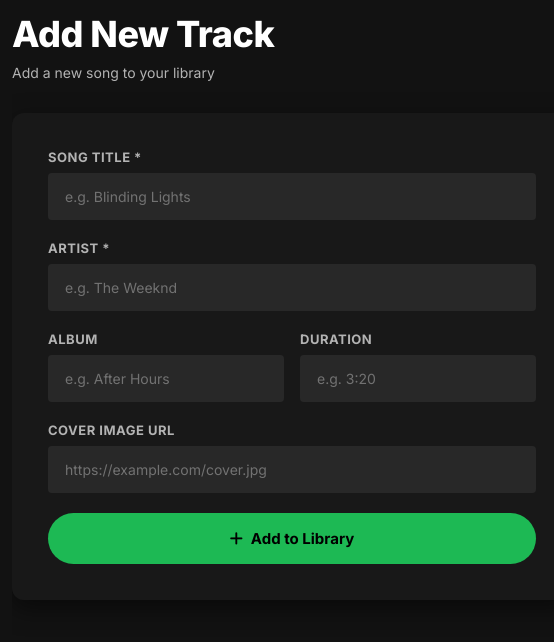
Test: AddTrack Page Component › shows generic error if API fails
Type "Test Title" into the field labelled "Song Title *".
click(292, 196); type("Test Title")  # box 48,173 -> 536,220
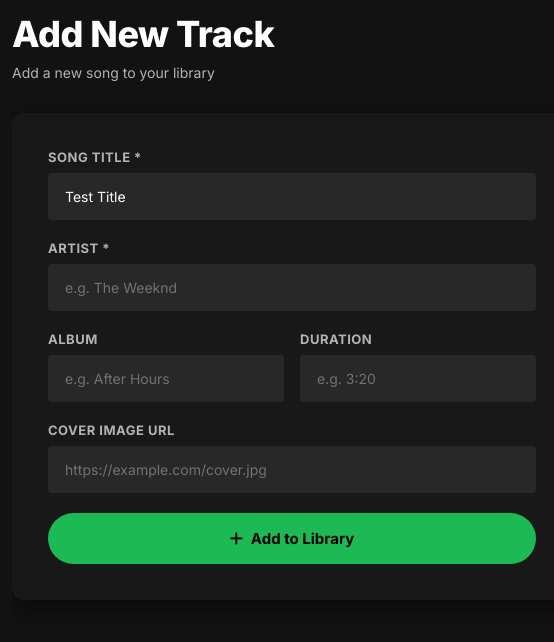
Type "Test Artist" into the field labelled "Artist *".
click(292, 288); type("Test Artist")  # box 48,264 -> 536,311
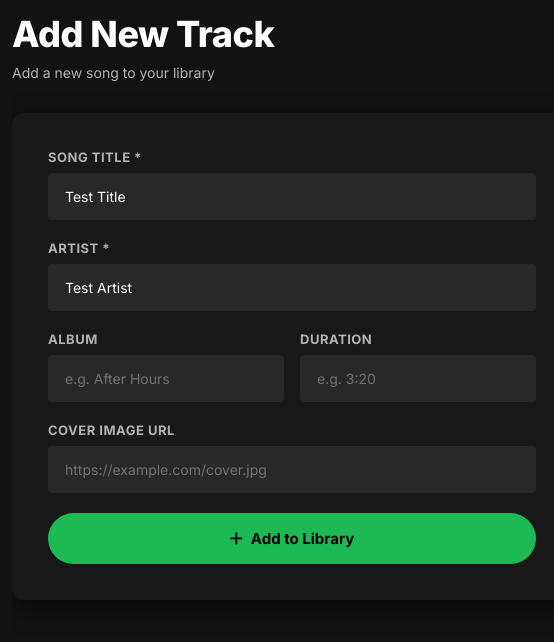
Click the button "Add to Library".
click(292, 538)  # box 48,513 -> 536,564
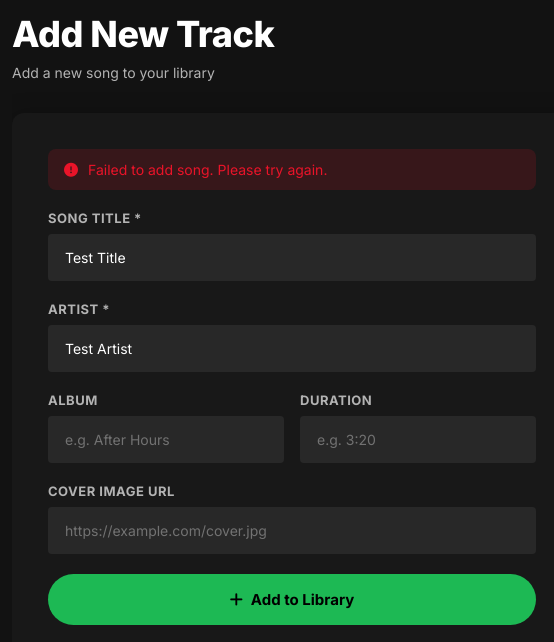
expect the text "Failed to add song. Please try again." is shown: met, box 48,149 -> 536,190
